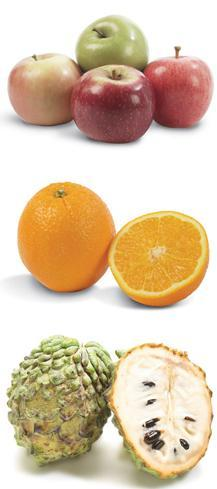apple: (69, 64, 153, 144), (142, 50, 214, 129), (6, 52, 82, 126), (73, 17, 148, 72)
